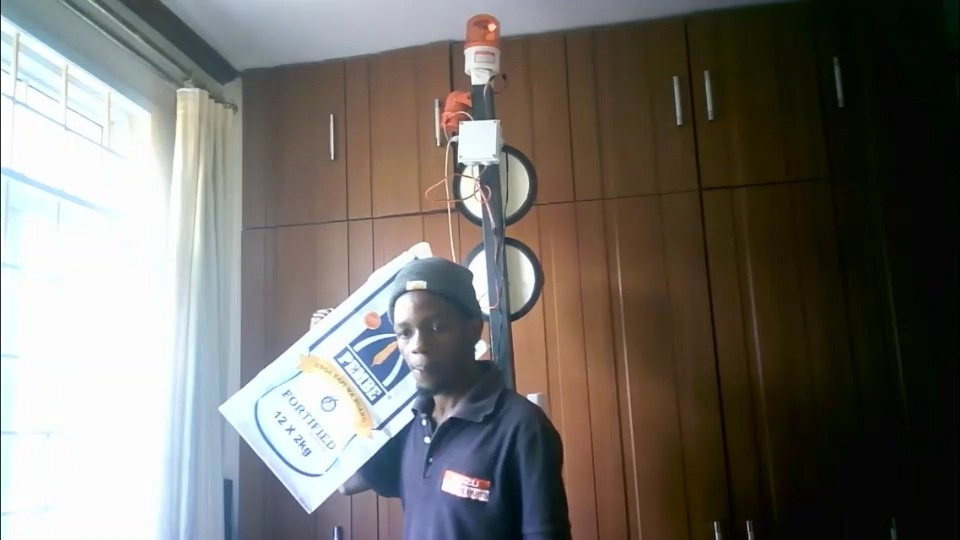wheat_flour_blue_label: (210, 246, 457, 505)
